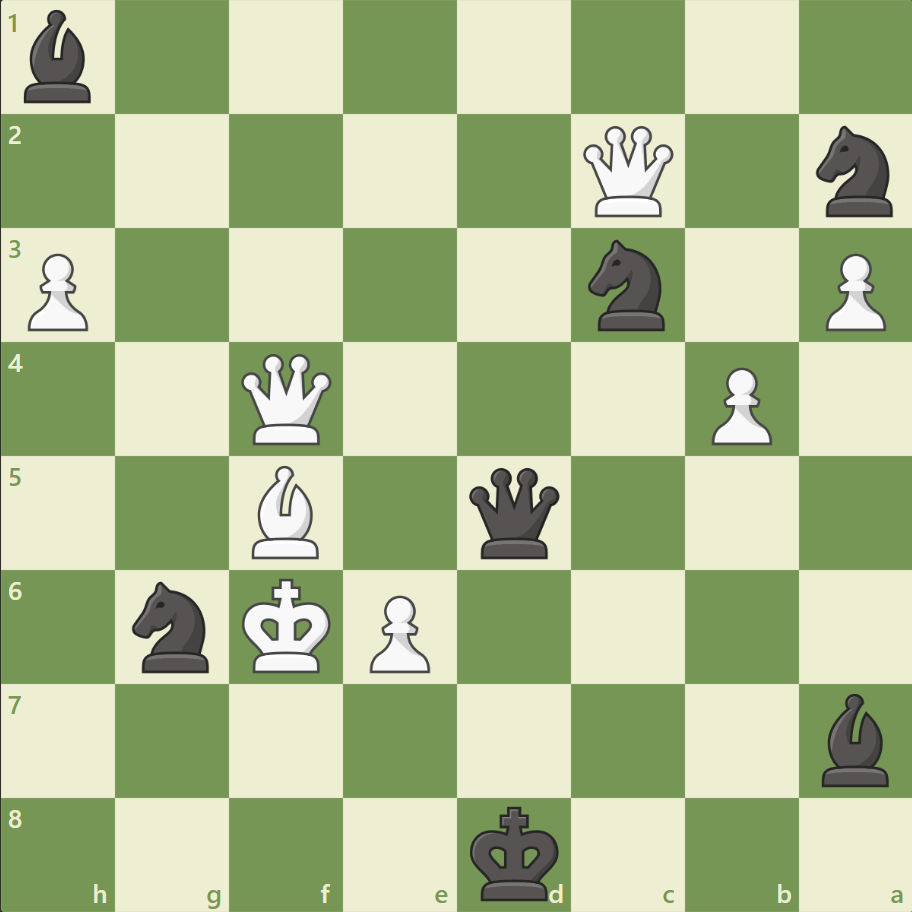B: (244, 460, 328, 563)
K: (238, 571, 338, 679)
P: (701, 359, 776, 450), (20, 246, 95, 337), (361, 586, 435, 677), (815, 246, 889, 337)
Q: (237, 349, 336, 449), (578, 122, 677, 222)
b: (812, 687, 896, 790), (17, 6, 101, 109)
k: (465, 798, 565, 906)
n: (124, 575, 222, 677), (579, 234, 676, 337), (806, 121, 903, 223)
q: (464, 463, 563, 562)
